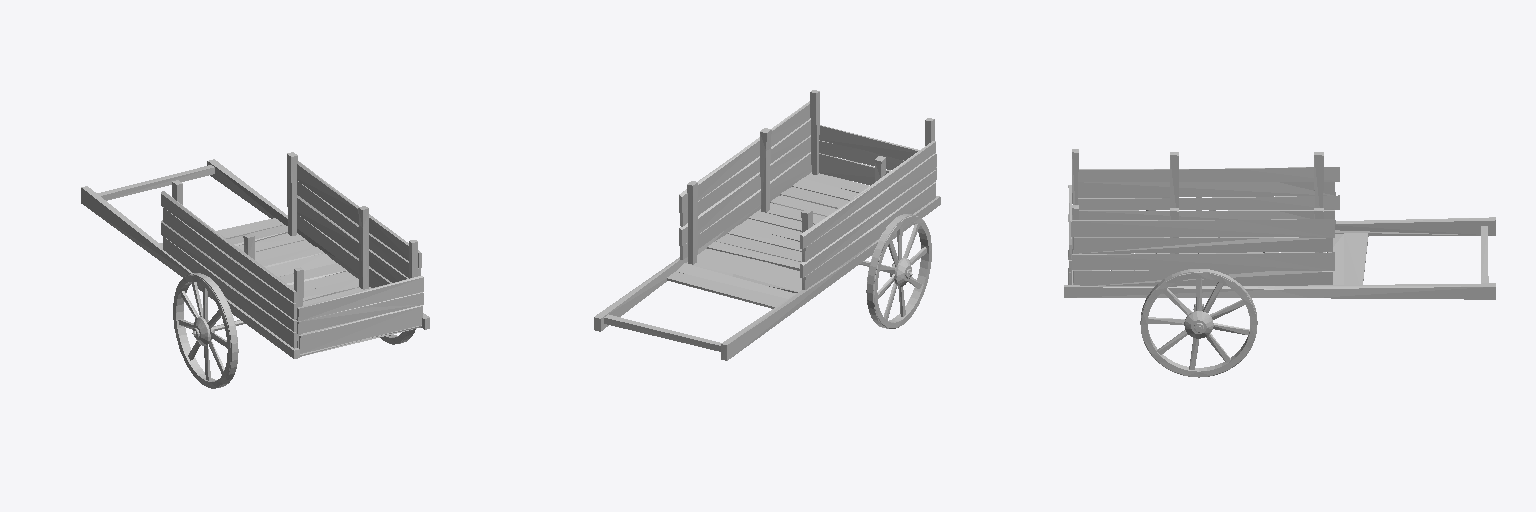
File: carriage.obj
3 views of the same model, side by side, from view 1: azimuth 30°, elevation 25°; view 2: azimuth 150°, elevation 25°; view 3: azimuth 270°, elevation 25° (orthographic).
Parts seen in each view (by area): view 1: carrage:pCube28, carrage:polySurface3; view 2: carrage:pCube28, carrage:polySurface3; view 3: carrage:pCube28, carrage:polySurface3.
Boxes of the visible parts, box(x1,y1,x2,y2) form: carrage:pCube28: box(81, 152, 429, 380); carrage:polySurface3: box(173, 273, 415, 388); carrage:pCube28: box(594, 90, 940, 360); carrage:polySurface3: box(859, 214, 931, 328); carrage:pCube28: box(1064, 149, 1495, 369); carrage:polySurface3: box(1140, 197, 1257, 377).
Bounding box in the file's own units: 7.73 × 5.42 × 13.95.